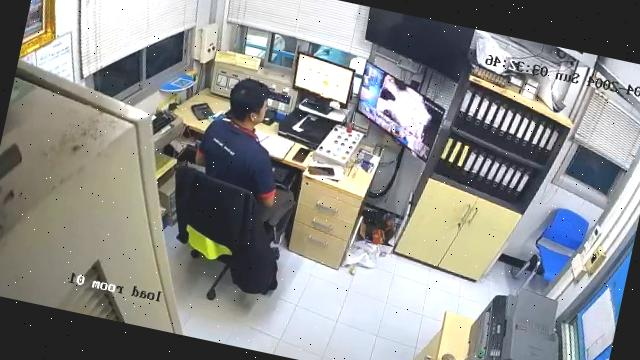Head: (222, 74, 274, 126)
People: (195, 78, 293, 229)
Phone: (291, 146, 313, 163), (308, 166, 334, 175)
